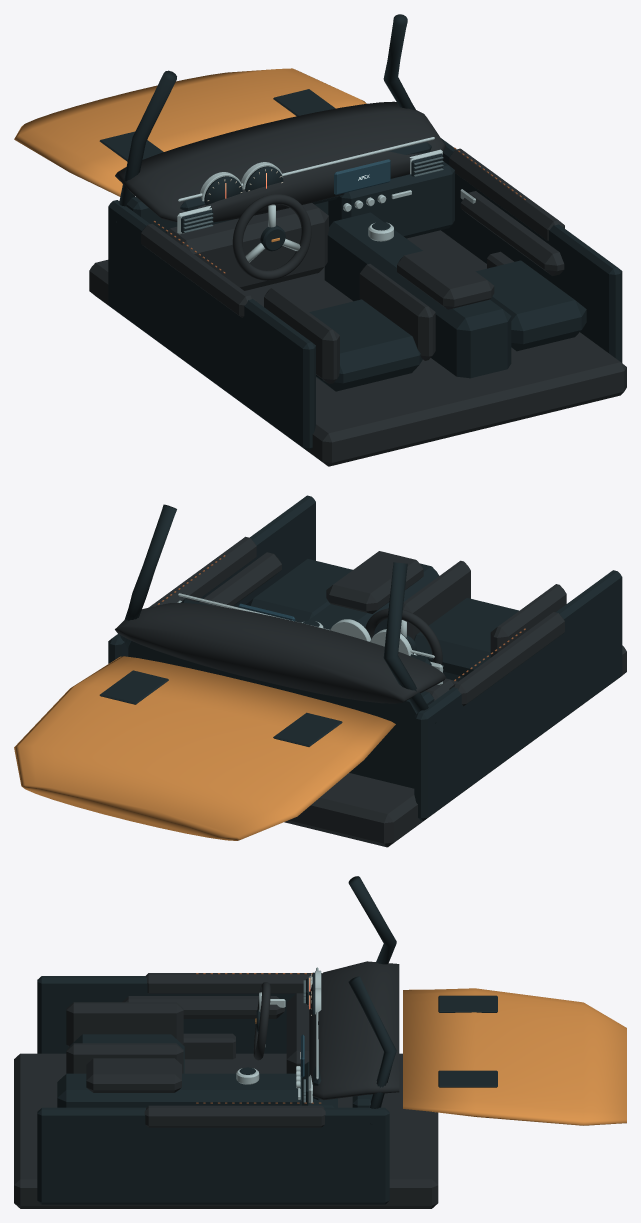
File: club-cockpit.glb
The picture shows the model from 3 angles, top to bottom: view 1: azimuth 30°, elevation 25°; view 2: azimuth 150°, elevation 25°; view 3: azimuth 270°, elevation 25°; orthographic projection. The views are drawn at different scales.
Parts seen in each view (by area): view 1: Carpeted cockpit floor, Inner door card, Sculpted dashboard, Visible sculpted bonnet, Transmission tunnel, Inner door card.001, Lower dash knee bolster, Empty driver cushion, Empty passenger cushion, Passenger glovebox, Console stitched top, Seat side bolster.001 (+15 smaller); view 2: Visible sculpted bonnet, Inner door card, Sculpted dashboard, Carpeted cockpit floor, Front bulkhead, Empty driver cushion, Inner door card.001, Empty passenger cushion, Console stitched top, Door top, Seat side bolster.001, Door top.001 (+9 smaller); view 3: Inner door card.001, Visible sculpted bonnet, Carpeted cockpit floor, Sculpted dashboard, Inner door card, Transmission tunnel, Door top.001, Seat side bolster, Console stitched top, Door top, Padded door armrest, Seat side bolster.001 (+8 smaller).
Part boxes in pixels (x1,y1,x2,y2): Carpeted cockpit floor: [89, 230, 626, 466]; Inner door card: [108, 200, 315, 450]; Sculpted dashboard: [115, 101, 446, 222]; Visible sculpted bonnet: [14, 68, 366, 196]; Transmission tunnel: [324, 212, 511, 378]; Inner door card.001: [441, 138, 622, 362]; Lower dash knee bolster: [166, 203, 328, 290]; Empty driver cushion: [309, 299, 422, 391]; Empty passenger cushion: [475, 260, 586, 351]; Passenger glovebox: [328, 162, 454, 238]; Console stitched top: [397, 246, 494, 309]; Seat side bolster.001: [359, 264, 435, 360]; Visible sculpted bonnet: [14, 656, 395, 840]; Inner door card: [414, 570, 622, 820]; Sculpted dashboard: [115, 603, 446, 703]; Carpeted cockpit floor: [284, 645, 626, 847]; Front bulkhead: [128, 641, 434, 788]; Empty driver cushion: [414, 598, 518, 681]; Inner door card.001: [108, 495, 315, 663]; Empty passenger cushion: [246, 559, 352, 622]; Console stitched top: [326, 551, 423, 613]; Door top: [449, 612, 564, 706]; Seat side bolster.001: [403, 560, 470, 639]; Door top.001: [149, 536, 256, 607]; Inner door card.001: [37, 1107, 389, 1204]; Visible sculpted bonnet: [403, 988, 626, 1125]; Carpeted cockpit floor: [14, 1053, 438, 1208]; Sculpted dashboard: [309, 961, 399, 1100]; Inner door card: [37, 976, 295, 1053]; Transmission tunnel: [57, 1073, 301, 1107]; Door top.001: [144, 1105, 325, 1127]; Seat side bolster: [66, 1002, 183, 1046]; Console stitched top: [86, 1058, 181, 1092]; Door top: [146, 973, 321, 993]; Padded door armrest: [122, 996, 284, 1018]; Seat side bolster.001: [66, 1043, 183, 1073].
Size of the model in its own units: 1.84 by 1.34 by 3.39.
